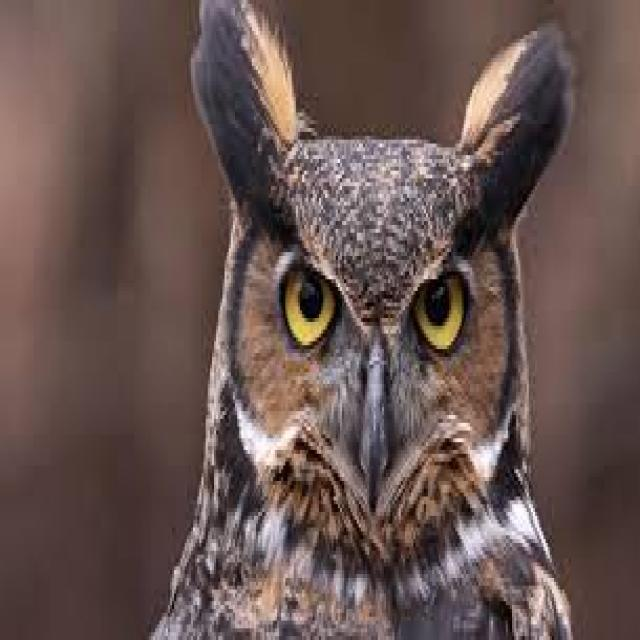Owl: (144, 0, 585, 640)
